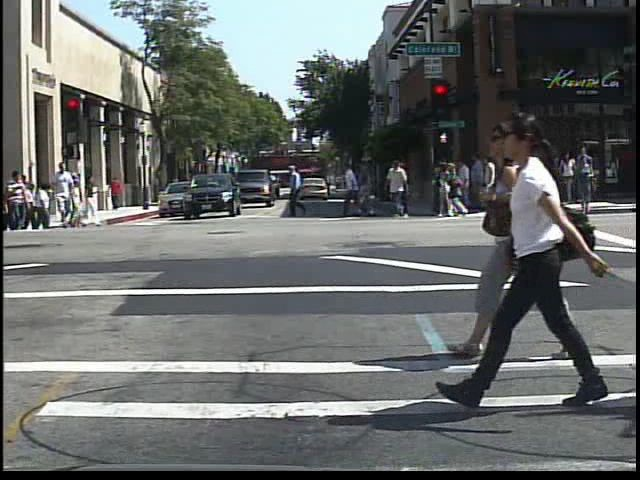person: (486, 102, 591, 414), (447, 113, 531, 354), (516, 143, 548, 212), (50, 162, 78, 230), (7, 165, 31, 233), (108, 175, 127, 213), (168, 171, 186, 202)
